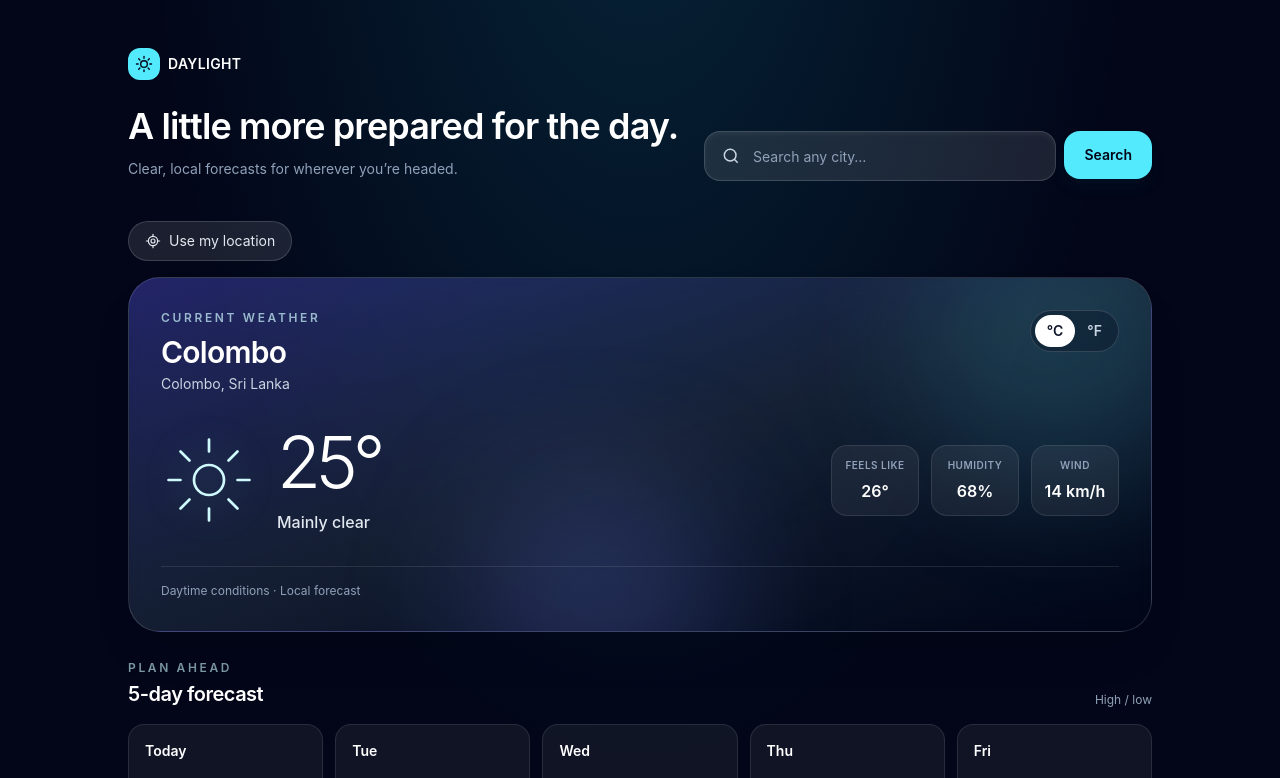
Scenario: weather dashboard › searches for a city, displays its forecast, and switches temperature units
Check: the heading "Colombo" is shown, box [161,334,286,370]
Type "Tokyo" into the search field named "Search for a city" at (896, 156), box [753,132,1040,180]
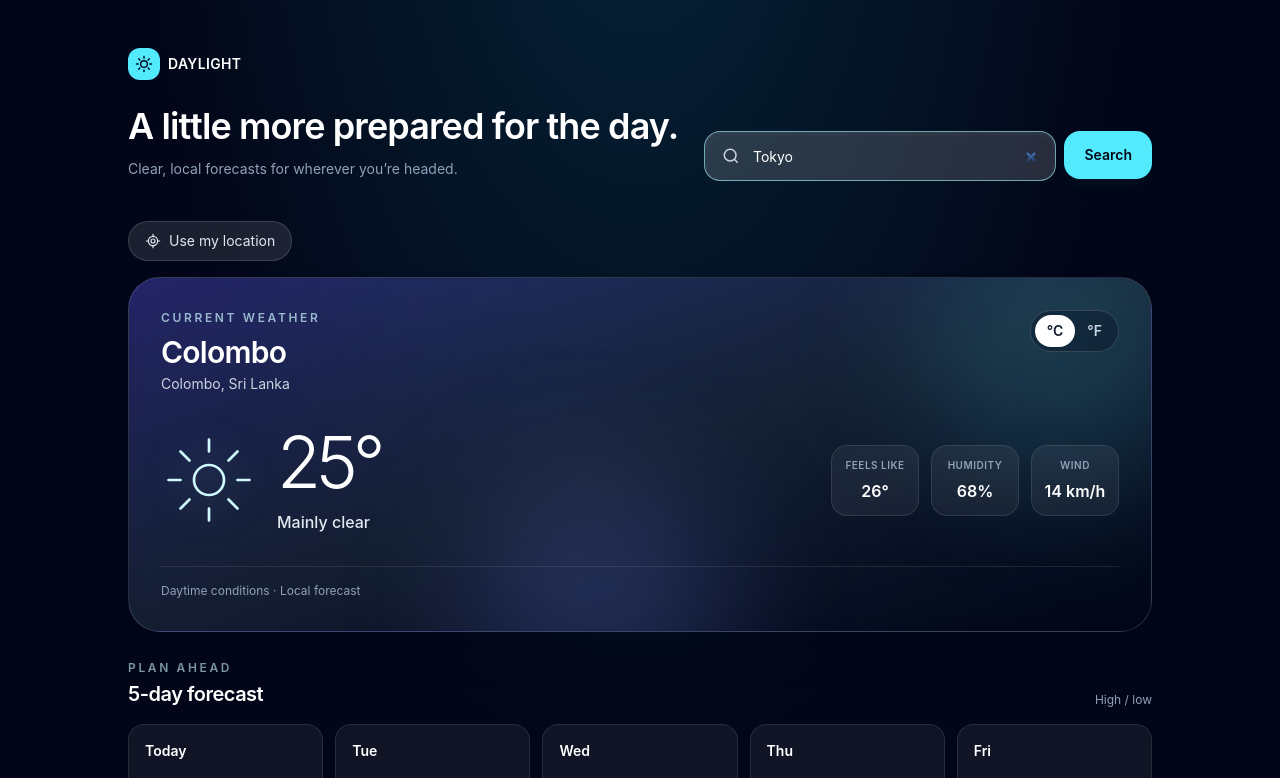
Click the button "Search" at (1108, 155), box [1064,131,1152,179]
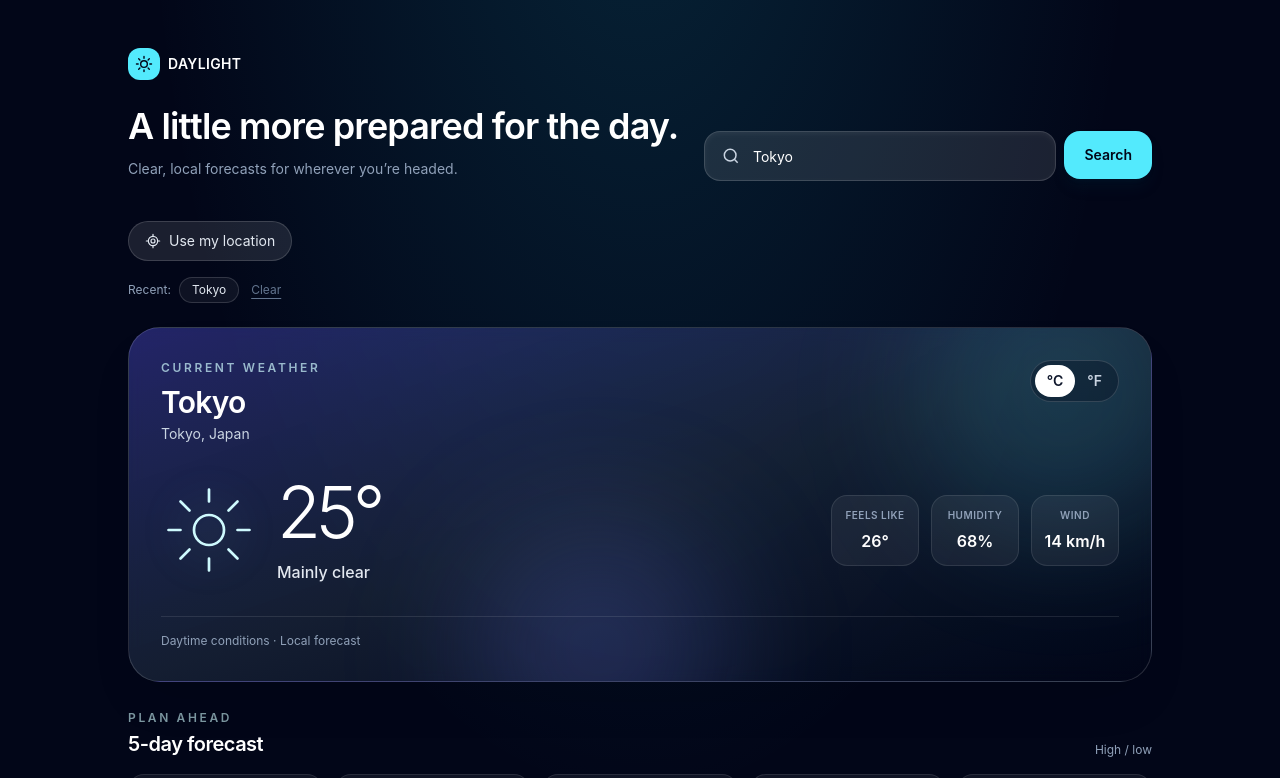
Check: the text "25°" is shown, box [277,476,381,548]
Check: the heading "Tokyo" is shown, box [161,384,246,420]
Click the button "°F" at (1095, 381), box [1075,365,1114,397]
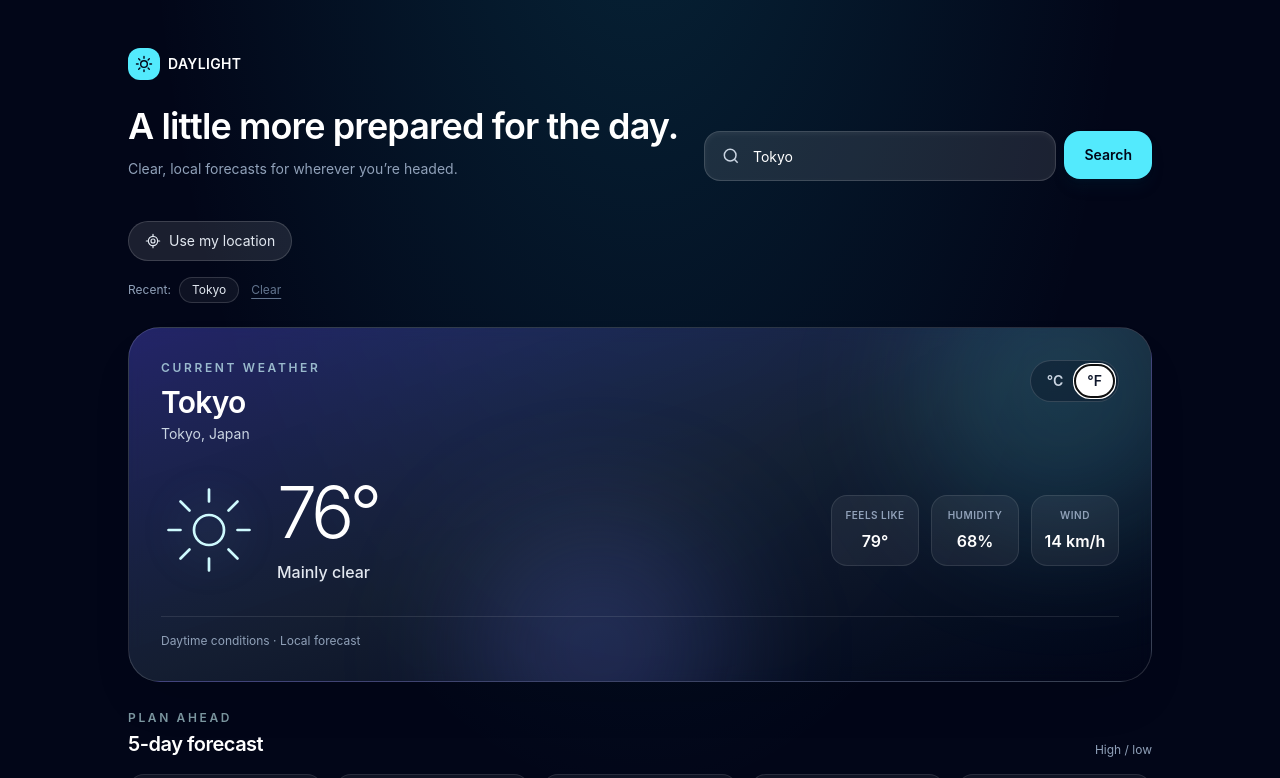
Check: the text "76°" is shown, box [277,476,377,548]
